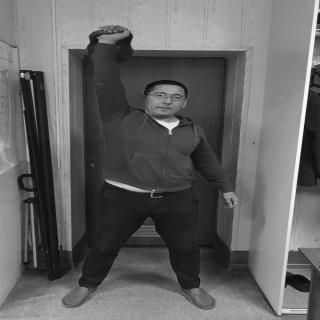kettlebell: (86, 30, 136, 64)
